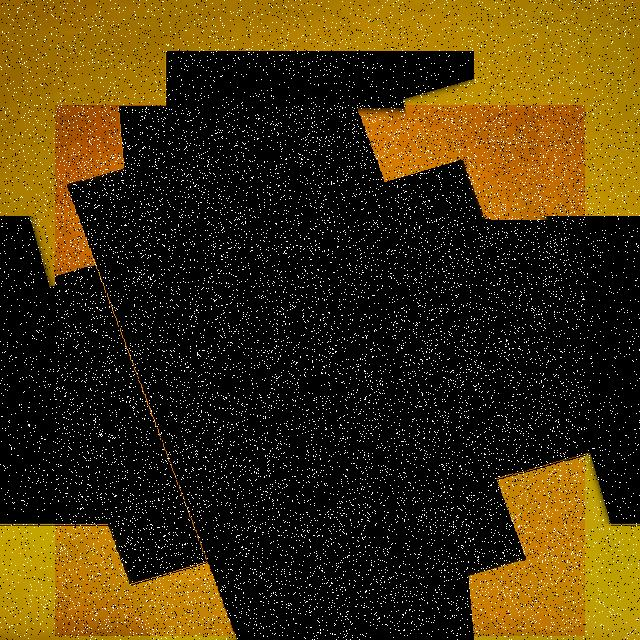lima puluh ribu rupiah: (55, 105, 585, 636)
